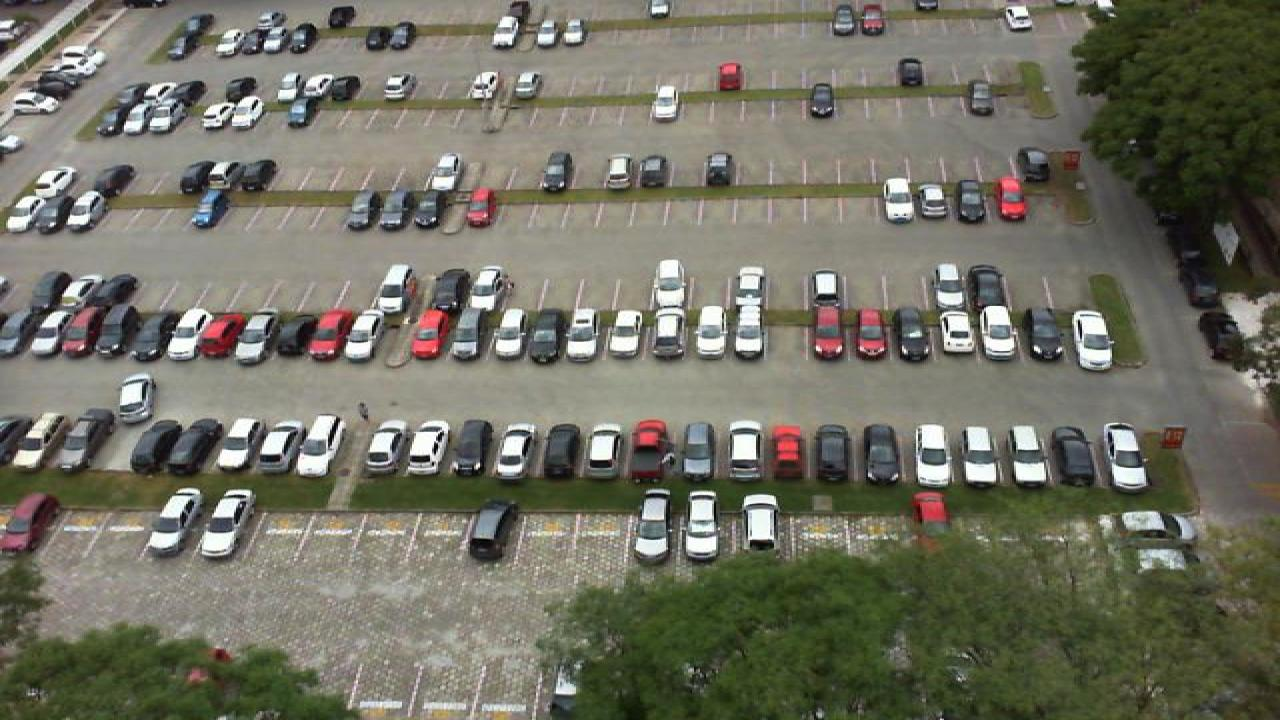Car: (144, 487, 206, 558), (196, 489, 256, 562), (8, 411, 78, 472), (0, 492, 62, 554), (56, 411, 116, 472), (1100, 422, 1152, 492), (286, 415, 344, 476), (166, 417, 224, 477), (130, 417, 188, 476), (466, 499, 520, 562), (212, 415, 268, 474), (632, 489, 676, 564), (680, 489, 724, 562), (398, 418, 452, 476), (250, 419, 306, 474), (1004, 426, 1052, 488), (232, 307, 282, 366), (812, 422, 858, 485), (1054, 425, 1100, 487), (536, 422, 586, 479), (162, 306, 212, 363), (914, 423, 958, 487), (860, 423, 904, 487), (128, 308, 180, 362), (196, 310, 252, 360), (580, 424, 628, 482), (448, 419, 496, 477), (360, 419, 410, 474), (676, 420, 720, 482), (300, 307, 350, 361), (270, 310, 320, 364), (58, 305, 108, 359), (960, 424, 1002, 487), (628, 418, 670, 481), (1074, 306, 1114, 372), (740, 492, 782, 554), (370, 307, 414, 366), (492, 422, 538, 478), (766, 423, 808, 484), (92, 306, 138, 361), (724, 419, 764, 482), (406, 307, 450, 363), (338, 308, 384, 361), (1026, 305, 1068, 362), (28, 307, 74, 359), (564, 307, 606, 363), (484, 306, 526, 362), (648, 304, 688, 362), (606, 306, 646, 363), (910, 489, 954, 540), (372, 262, 416, 313), (980, 306, 1020, 362), (808, 305, 848, 361), (444, 306, 484, 362), (116, 373, 158, 426), (424, 266, 474, 310), (20, 192, 72, 234), (730, 304, 768, 361), (526, 307, 564, 363), (938, 308, 978, 361), (892, 306, 930, 361), (470, 264, 514, 310), (966, 264, 1010, 310), (62, 189, 108, 232), (878, 175, 918, 224), (852, 307, 888, 361), (694, 303, 726, 362), (184, 189, 230, 229), (730, 264, 768, 312), (346, 188, 388, 231), (0, 308, 34, 359), (950, 176, 988, 221), (654, 259, 688, 309), (380, 189, 420, 231), (932, 262, 966, 310), (462, 184, 498, 229), (808, 269, 848, 309), (996, 174, 1030, 221), (414, 188, 450, 231), (540, 151, 576, 191), (430, 153, 464, 191), (650, 83, 680, 125), (918, 184, 952, 220), (602, 154, 636, 190), (806, 81, 838, 119), (966, 79, 998, 117), (638, 153, 670, 189), (704, 152, 734, 189)
